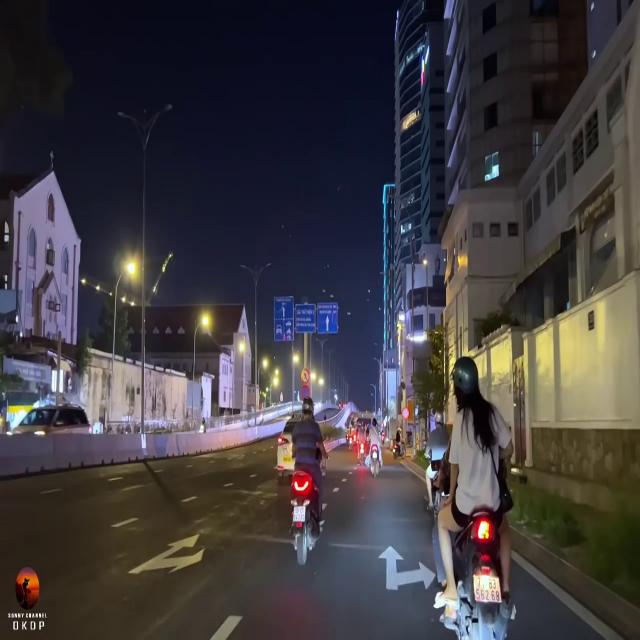bien_trang: (472, 575, 502, 604), (293, 508, 305, 522)
